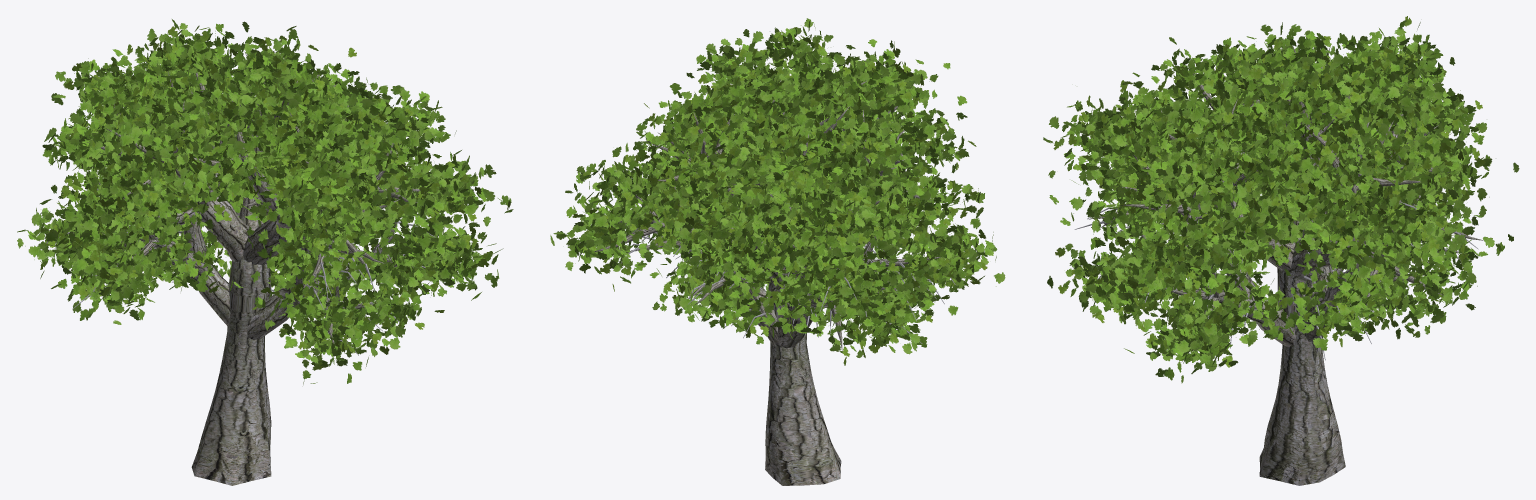
3 views of the same model, side by side, from view 1: azimuth 30°, elevation 25°; view 2: azimuth 150°, elevation 25°; view 3: azimuth 270°, elevation 25° (orthographic). The views are drawn at different scales.
Parts seen in each view (by area): view 1: Tilo foliage cards, Tilo_EasyTree_V022_Proof, Tilo V022 delicate lower branches; view 2: Tilo foliage cards, Tilo_EasyTree_V022_Proof, Tilo V022 delicate lower branches; view 3: Tilo foliage cards, Tilo_EasyTree_V022_Proof, Tilo V022 delicate lower branches.
Part boxes in pixels (bbox=[...]): Tilo foliage cards: bbox=[17, 19, 513, 384]; Tilo_EasyTree_V022_Proof: bbox=[68, 53, 420, 485]; Tilo V022 delicate lower branches: bbox=[40, 188, 435, 355]; Tilo foliage cards: bbox=[550, 18, 1005, 365]; Tilo_EasyTree_V022_Proof: bbox=[594, 57, 940, 485]; Tilo V022 delicate lower branches: bbox=[619, 171, 955, 343]; Tilo foliage cards: bbox=[1043, 16, 1519, 383]; Tilo_EasyTree_V022_Proof: bbox=[1089, 44, 1483, 485]; Tilo V022 delicate lower branches: bbox=[1074, 201, 1478, 360].
Bounding box in the file's own units: 6.08 × 5.75 × 5.92.
Materials: 2 (2 with a texture image).
